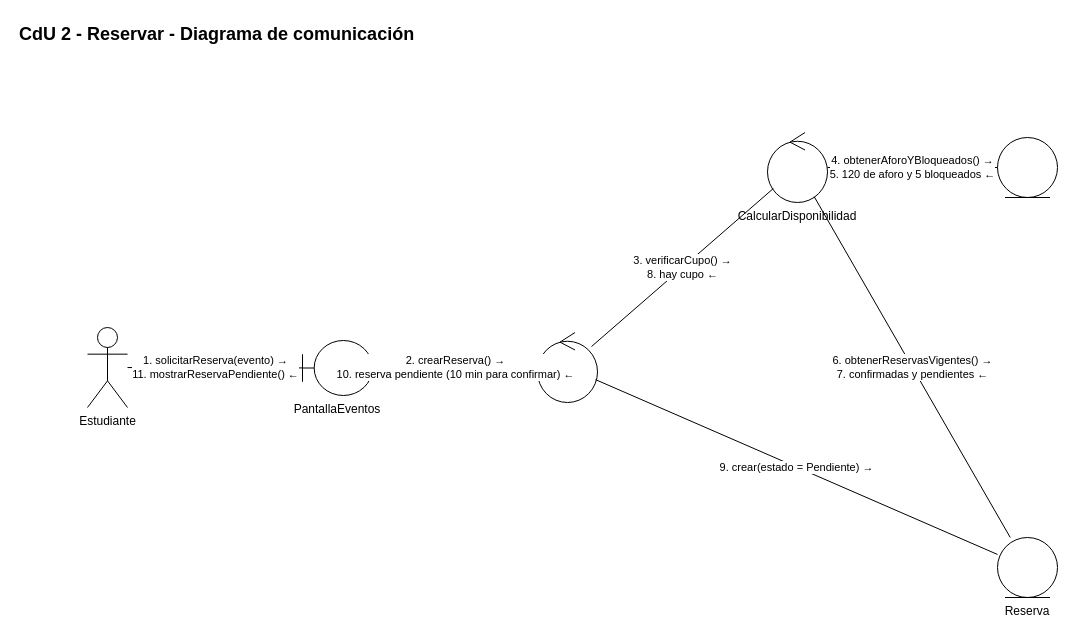
The diagram is 1075 pixels wide and 635 high, and some of its shapes have lost their labels. The shapes that lost their labels are listed below. From the top down, each one's centre as x and y in pixels, then its label:
pixel 1027 167: Evento
pixel 567 367: GestiónReserva
